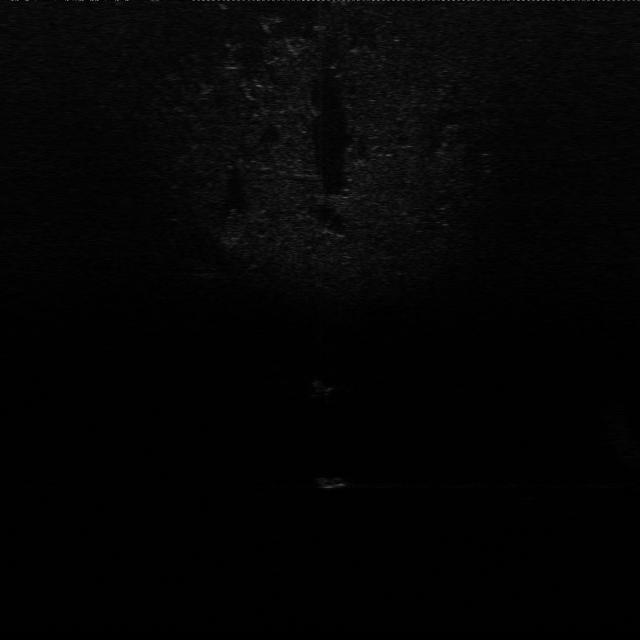cube: (314, 465, 352, 492)
square cage: (304, 374, 340, 402)
